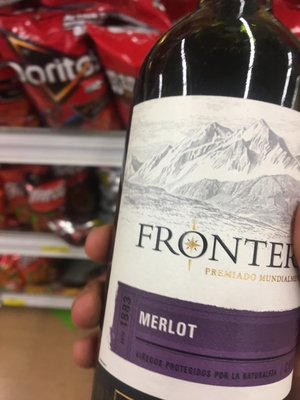frontera merlot: (94, 12, 297, 400)
